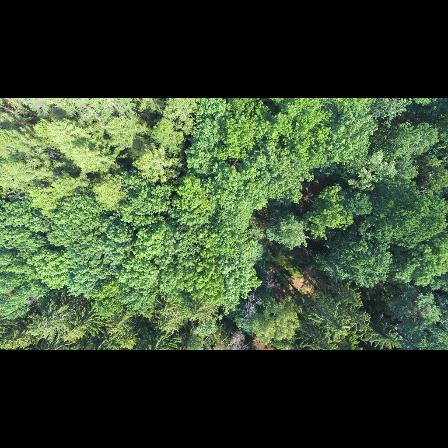Dead: (240, 294, 263, 323)
